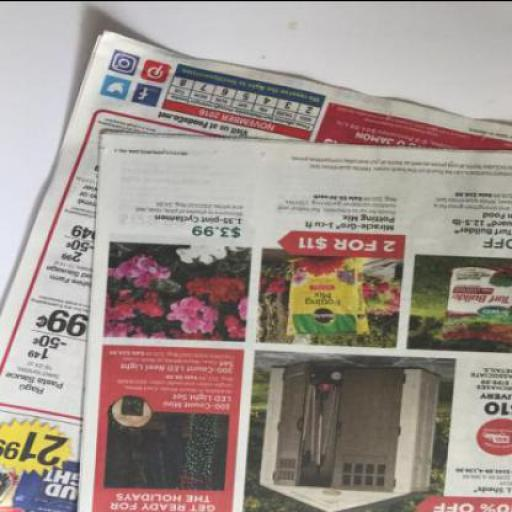paper: (0, 28, 511, 511), (76, 130, 512, 511)
